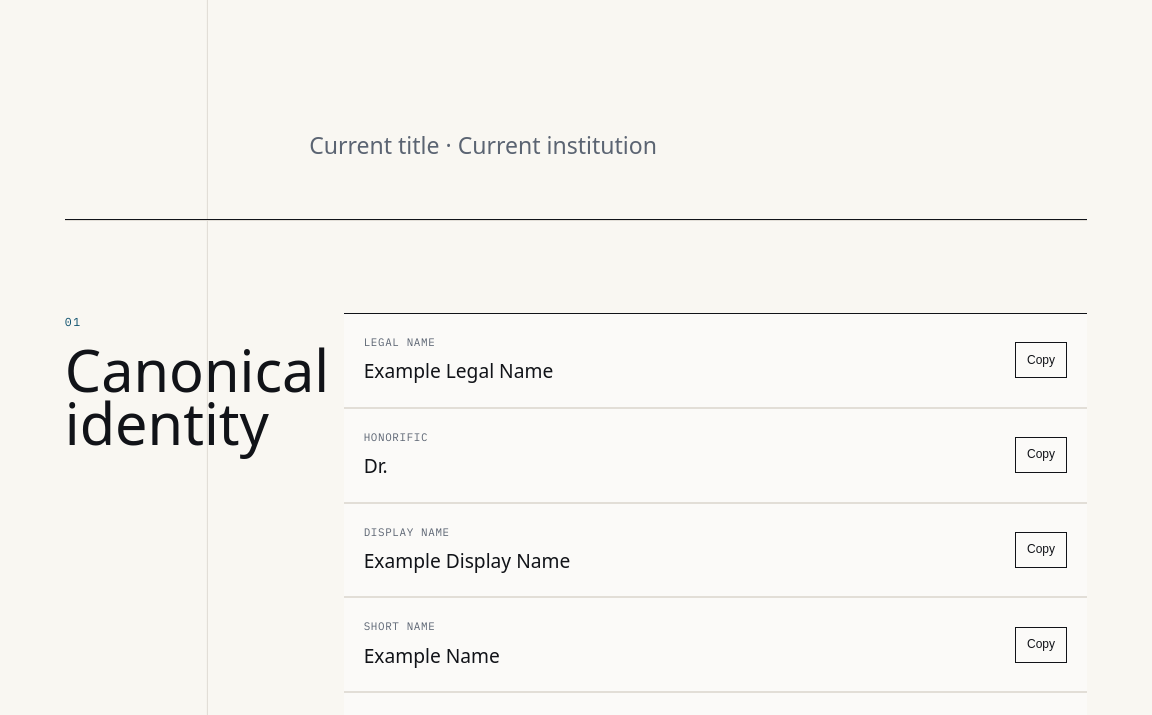
Test: PressRoom › copies canonical fields without modifying their text
(page scrolled)
Click the button "Copy" in the row of "Example Legal Name".
click(1041, 360)  # box [1015, 342, 1067, 378]
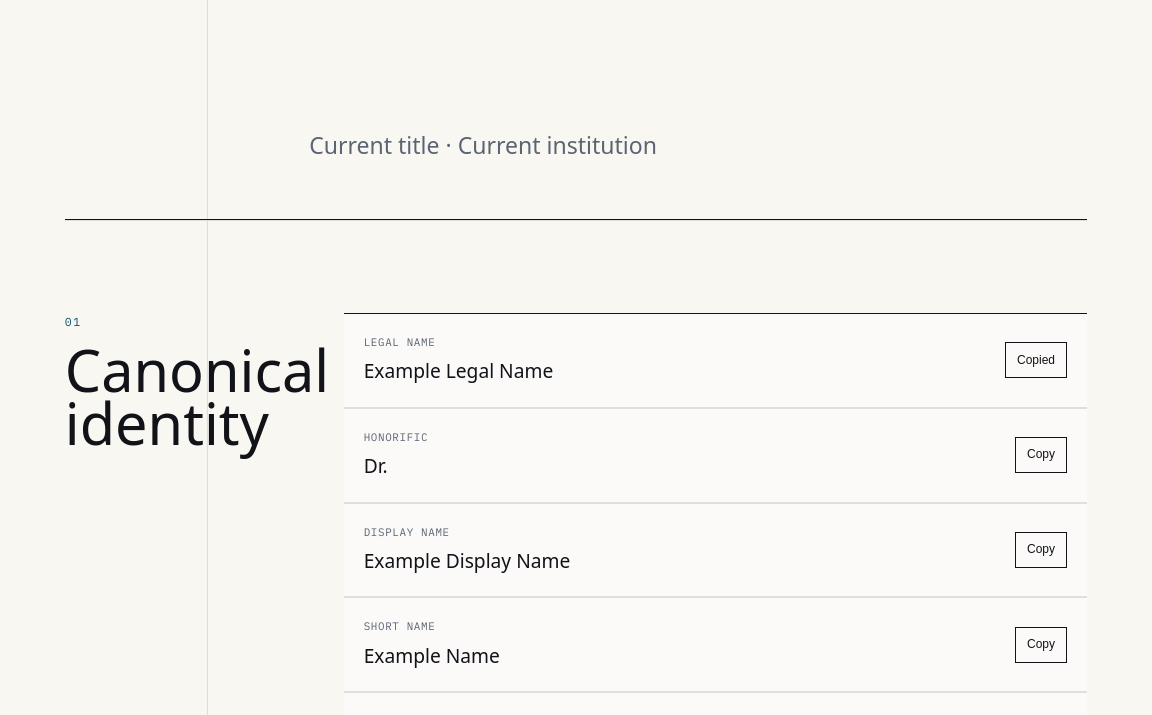
Now the button "Copied" is shown, box [1005, 342, 1067, 378]
